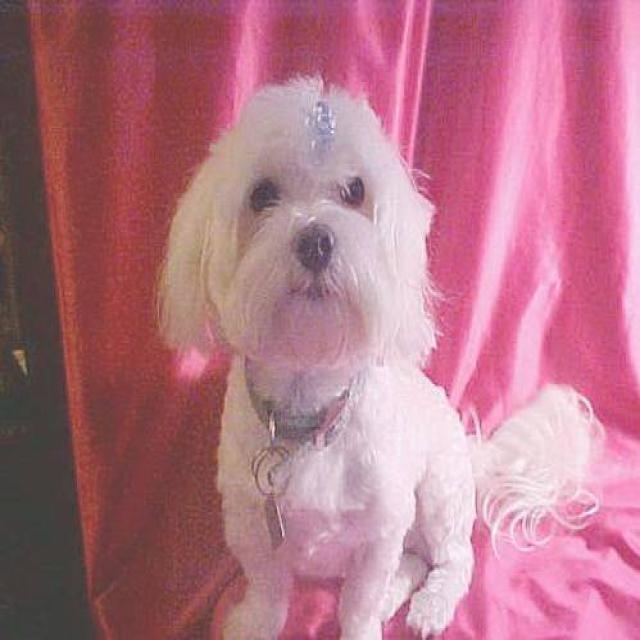dog: (153, 70, 605, 638)
